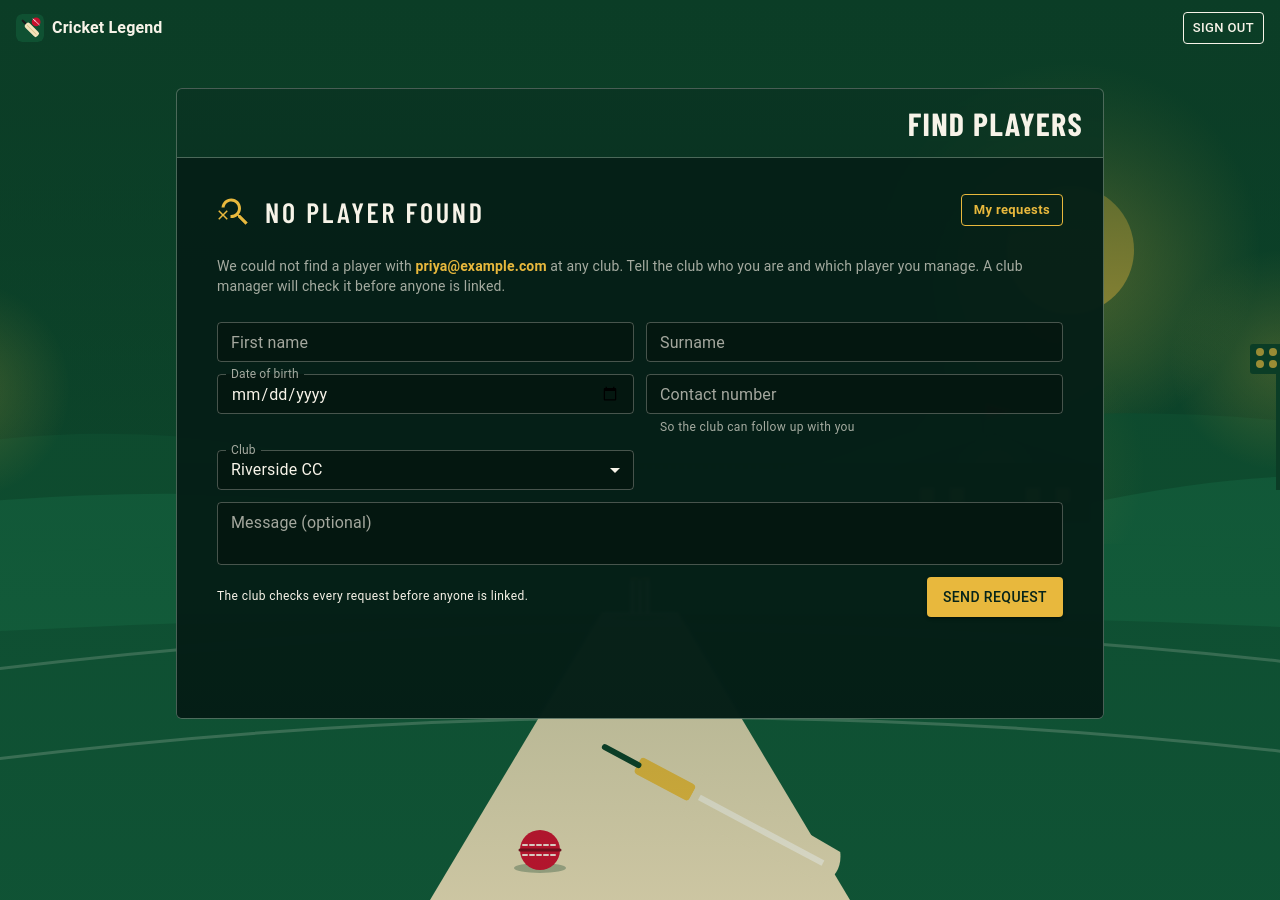
it: FindYourPlayersPage › No player found › Send another request goes back to the start
Type "Aman" into the field labelled "First name".
click(426, 342); type("Aman")  # box [217, 322, 634, 362]
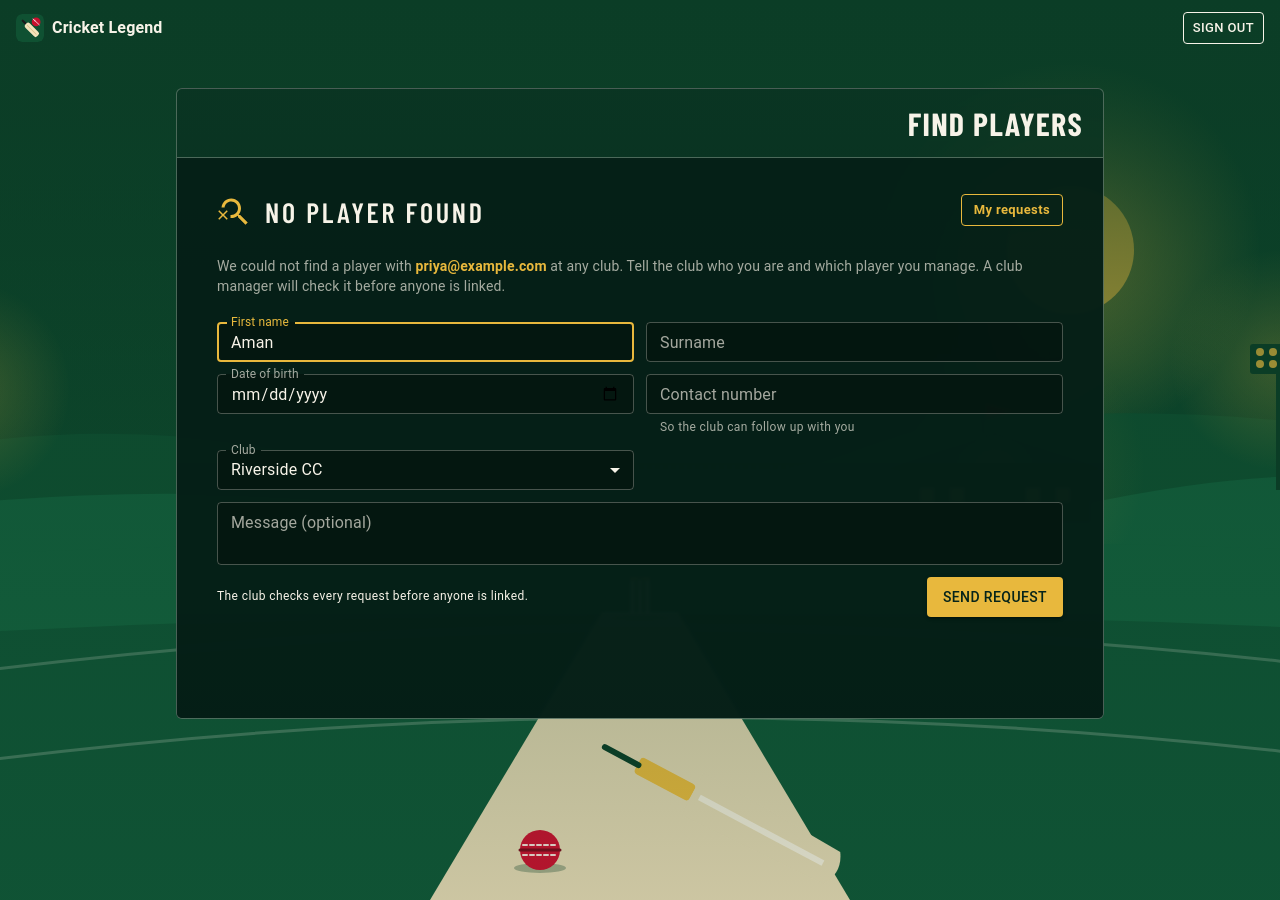
Type "Naidoo" into the field labelled "Surname".
click(854, 342); type("Naidoo")  # box [646, 322, 1063, 362]
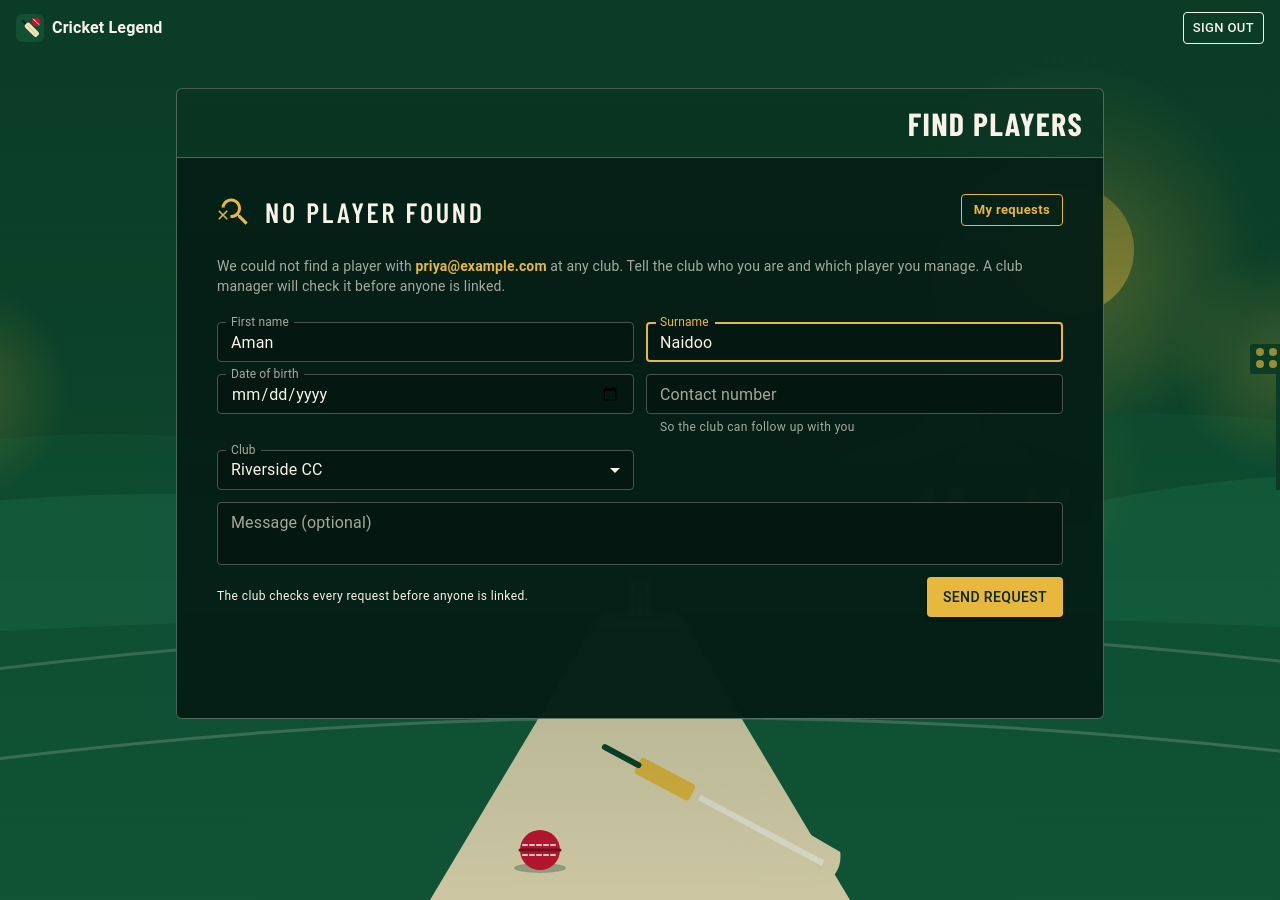
Type "2012-03-04" into the date field labelled "Date of birth".
click(426, 394); type("2012-03-04")  # box [217, 374, 634, 414]
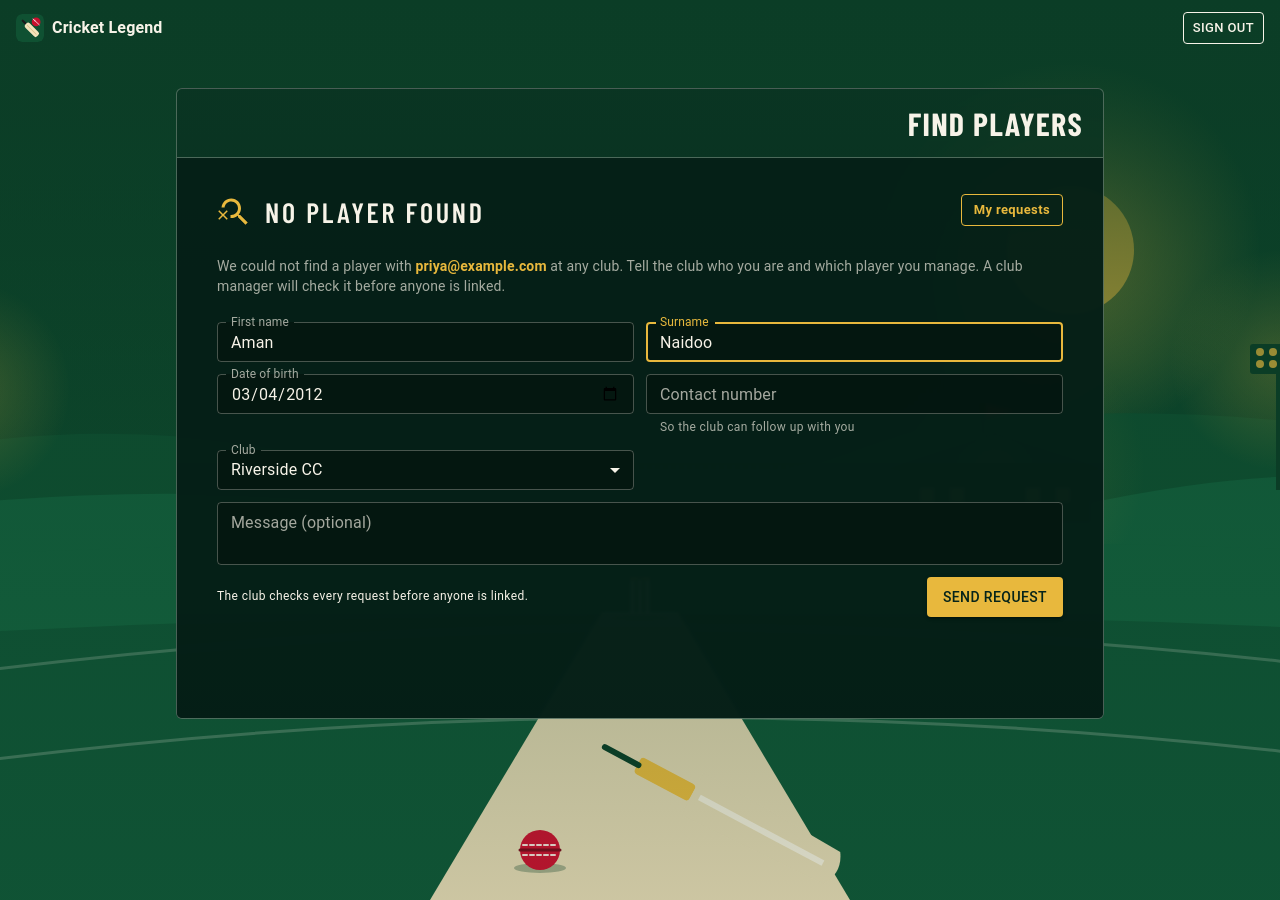
Type "0825550100" into the field labelled "Contact number".
click(854, 394); type("0825550100")  # box [646, 374, 1063, 414]
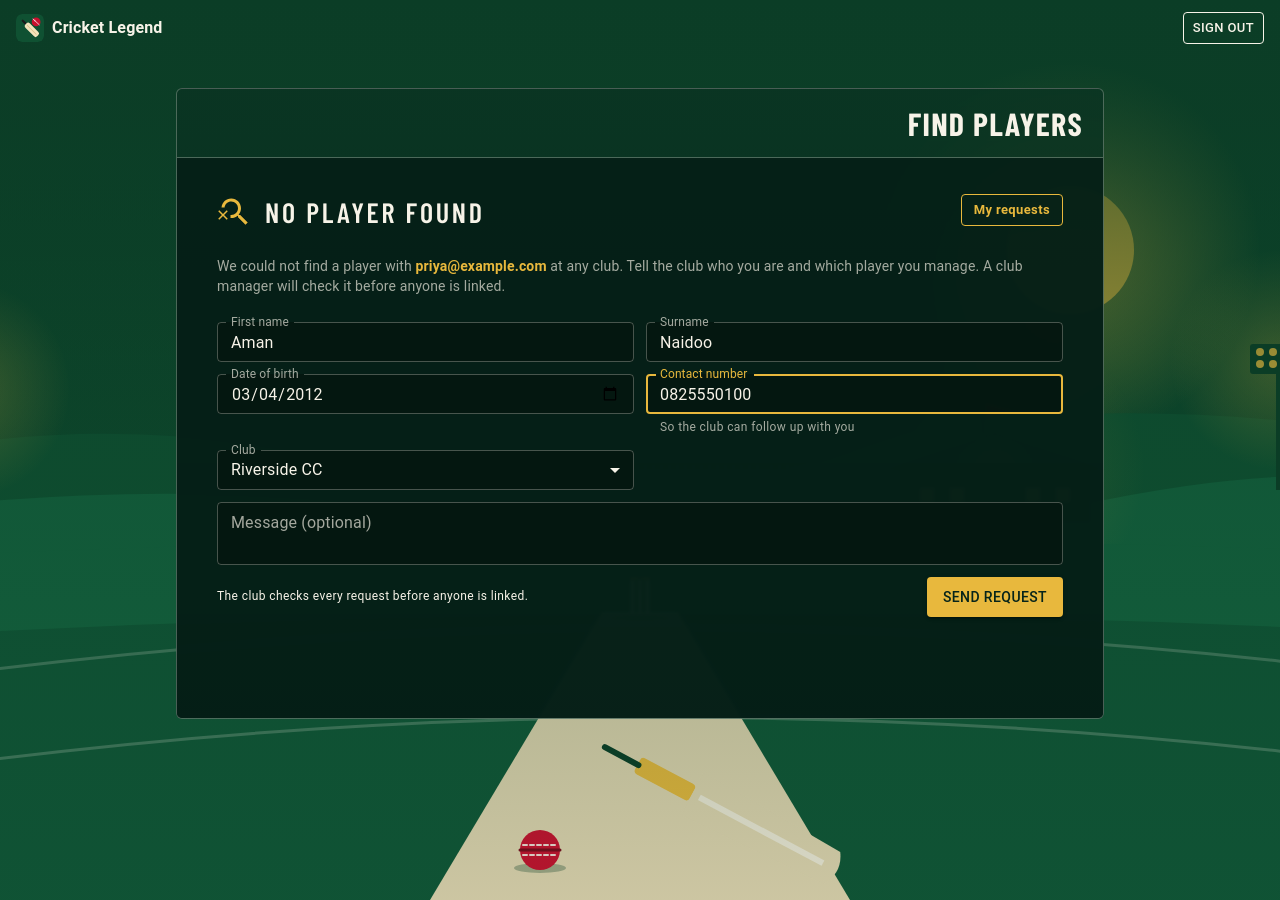
Click the button "Send request".
click(995, 597)  # box [927, 577, 1063, 617]
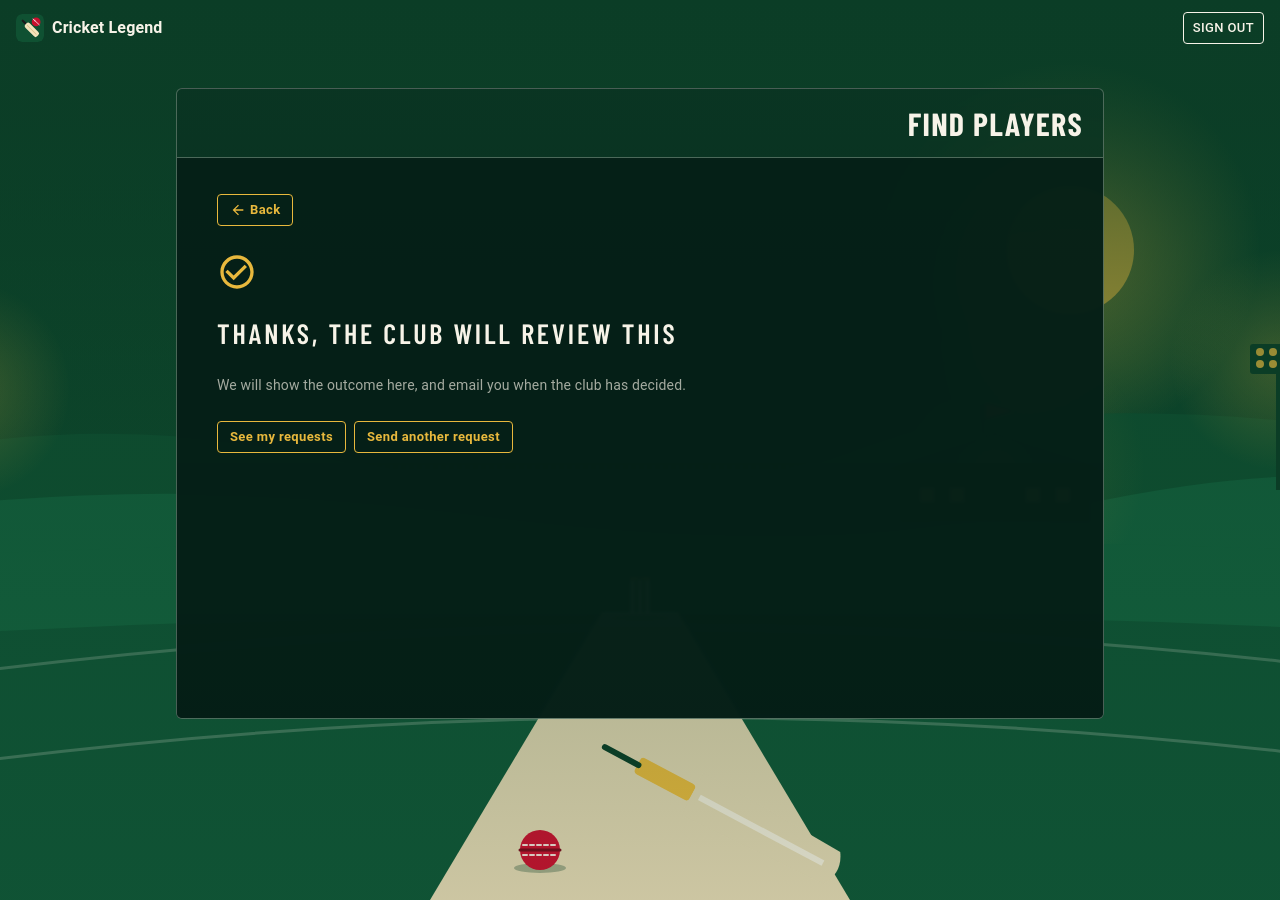
Click the button "Send another request".
click(434, 437)  # box [354, 421, 513, 453]
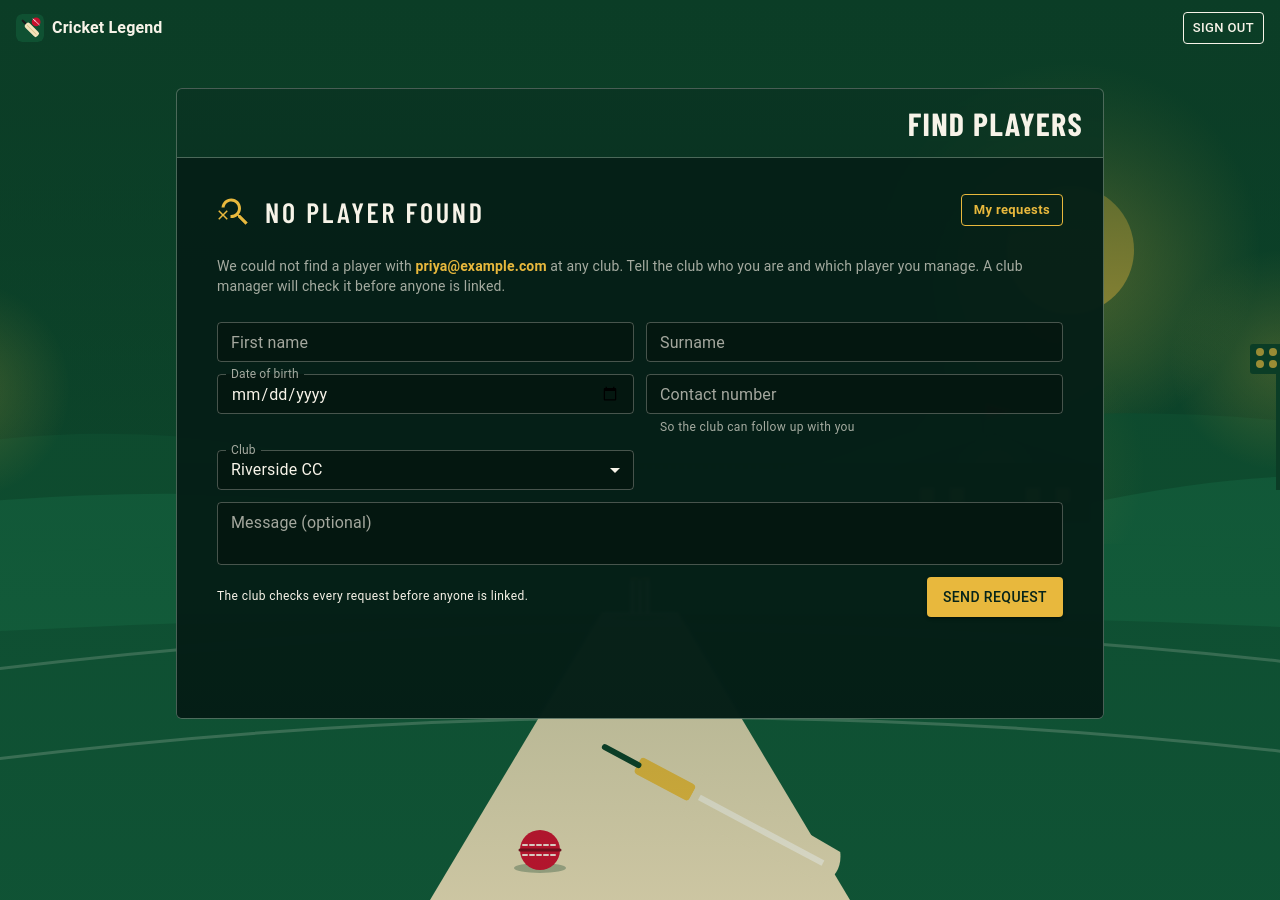
Expected: the form with test id "link-request-form" is shown, [217, 322, 1063, 617]
